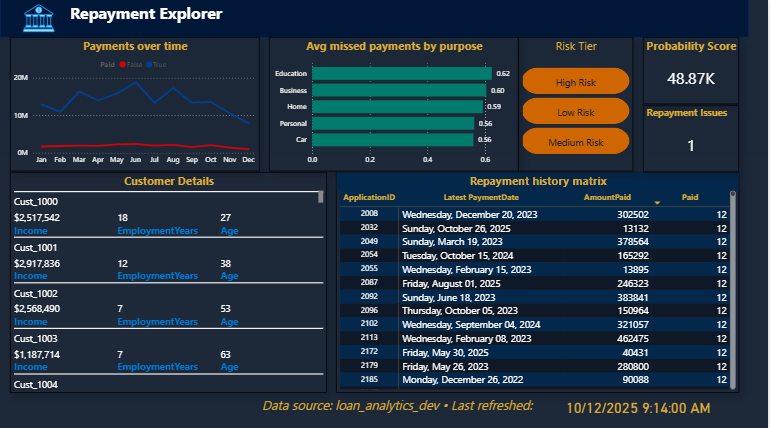

The page's visual inventory and layout, read from the dashboard file:
{"tool":"powerbi","page":{"name":"Repayment Explorer","canvas":[1280,720],"ordinal":2},"visuals":[{"type":"shape","box":[0,0,1248,64],"z":0},{"type":"textbox","box":[432,656,480,48],"z":1000},{"type":"card","fields":{"Values":["Measure.LastRefresh"]},"box":[912,656,304,48],"z":2000},{"type":"textbox","box":[112,0,384,64],"z":3000},{"type":"lineChart","title":"Payments over time","fields":{"Y":["Repayments.AmountPaid"],"Series":["Repayments.Paid"],"Category":["vw_CleanLoans.MonthLabel"]},"box":[16,64,416,224],"z":4000},{"type":"clusteredBarChart","title":"Avg missed payments by purpose","fields":{"Category":["vw_CleanLoans.Purpose"],"Y":["vw_CleanLoans.MissedPaymentsCount"]},"box":[448,64,416,224],"z":5000},{"type":"pivotTable","title":"Repayment history matrix","fields":{"Rows":["Repayments.ApplicationID"],"Values":["Repayments.PaymentDate","Repayments.AmountPaid","Repayments.Paid"]},"box":[560,288,672,368],"z":6000},{"type":"advancedSlicerVisual","fields":{"Values":["LoanPredictions.Risk Tier"]},"box":[864,64,192,224],"z":7000},{"type":"multiRowCard","title":"Customer Details","fields":{"Values":["Customers.Name","vw_CleanLoans.Income","vw_CleanLoans.EmploymentYears","vw_CleanLoans.Age"]},"box":[16,288,528,368],"z":8000},{"type":"card","title":"Probability Score","fields":{"Values":["LoanPredictions.Pred Prob %"]},"box":[1072,64,160,112],"z":9000},{"type":"card","title":"Repayment Issues","fields":{"Values":["vw_CleanLoans.Observed Default"]},"box":[1072,176,160,112],"z":10000},{"type":"image","box":[16,0,96,64],"z":11000}]}

Visuals, with their boxes in screenshot pixels (x1, y1, x2, y2), scaled from the page's 1280x720 canvas onto the 770x428 screenshot:
shape: [0,0,751,38]
textbox: [260,390,549,418]
card - Measure.LastRefresh: [549,390,732,418]
textbox: [67,0,298,38]
"Payments over time" lineChart: [10,38,260,171]
"Avg missed payments by purpose" clusteredBarChart: [270,38,520,171]
"Repayment history matrix" pivotTable: [337,171,741,390]
advancedSlicerVisual - LoanPredictions.Risk Tier: [520,38,635,171]
"Customer Details" multiRowCard: [10,171,327,390]
"Probability Score" card: [645,38,741,105]
"Repayment Issues" card: [645,105,741,171]
image: [10,0,67,38]
